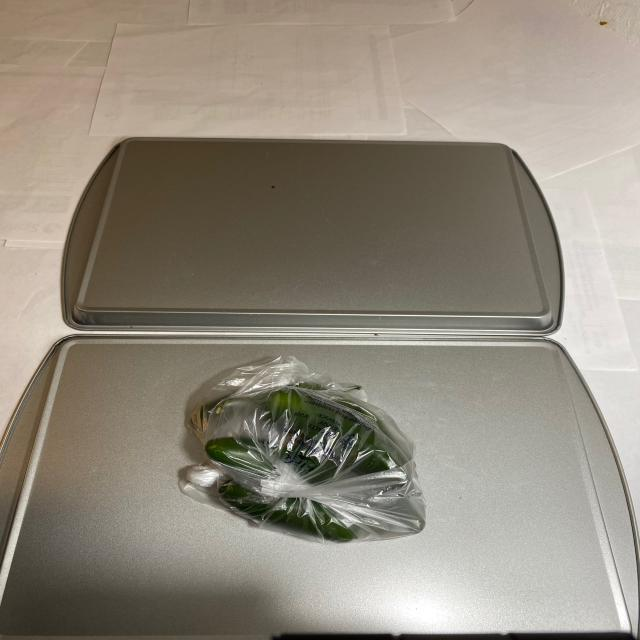chilli: (193, 378, 407, 544)
